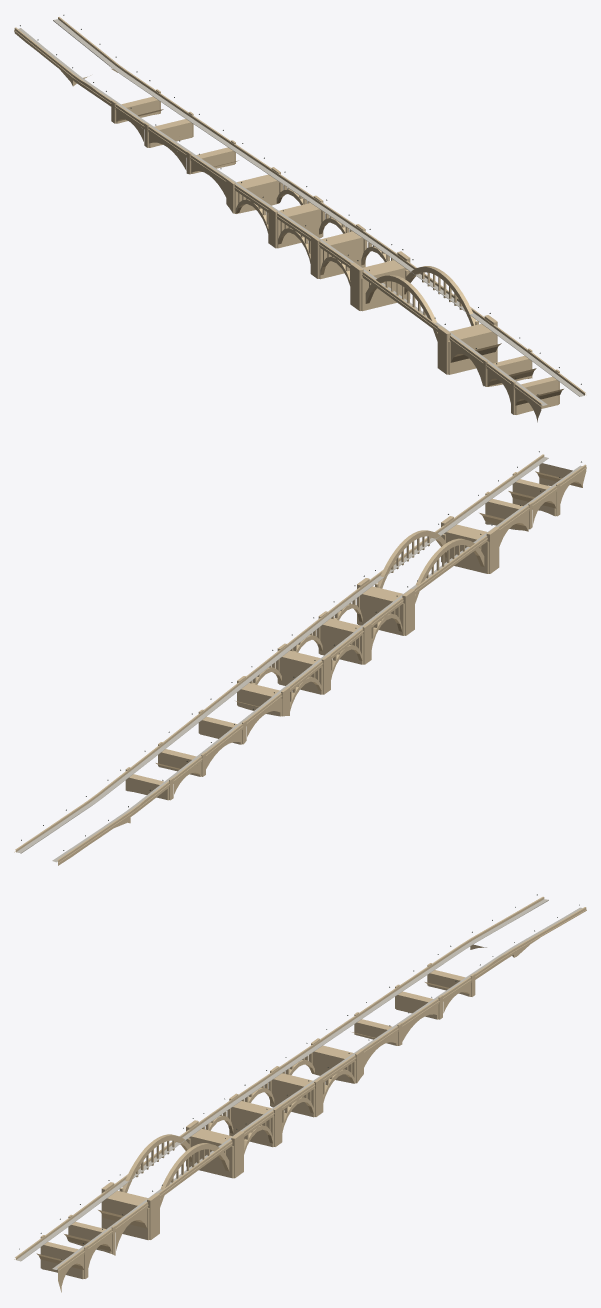
File: msp-robert-street-bridge.glb
The picture shows the model from 3 angles, top to bottom: view 1: azimuth 30°, elevation 25°; view 2: azimuth 150°, elevation 25°; view 3: azimuth 330°, elevation 25°; orthographic projection. The views are drawn at different scales.
Visible parts, largest first — view 1: Robert Street Bridge; view 2: Robert Street Bridge; view 3: Robert Street Bridge.
Part boxes in pixels (left/top/right/bottom): Robert Street Bridge: left=14, top=15, right=586, bottom=422; Robert Street Bridge: left=14, top=451, right=586, bottom=865; Robert Street Bridge: left=14, top=894, right=586, bottom=1292.
Size of the model in its own units: 30.42 by 28.76 by 495.
